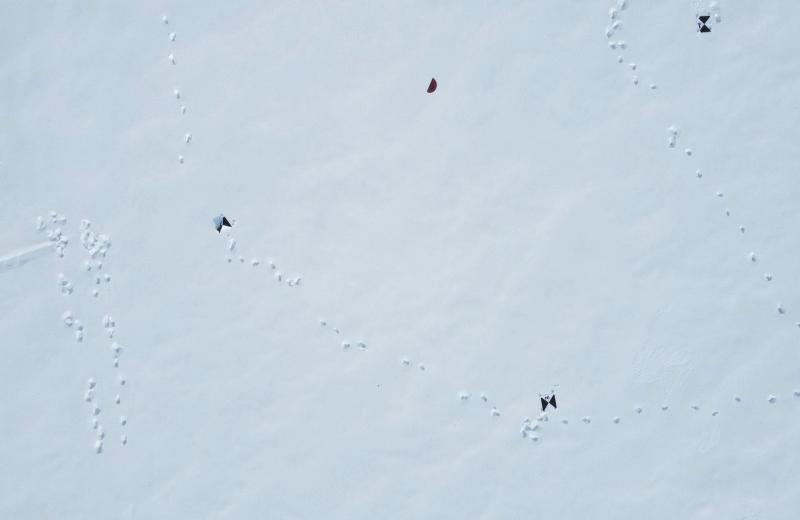Semi Circle: (425, 78, 437, 94)
